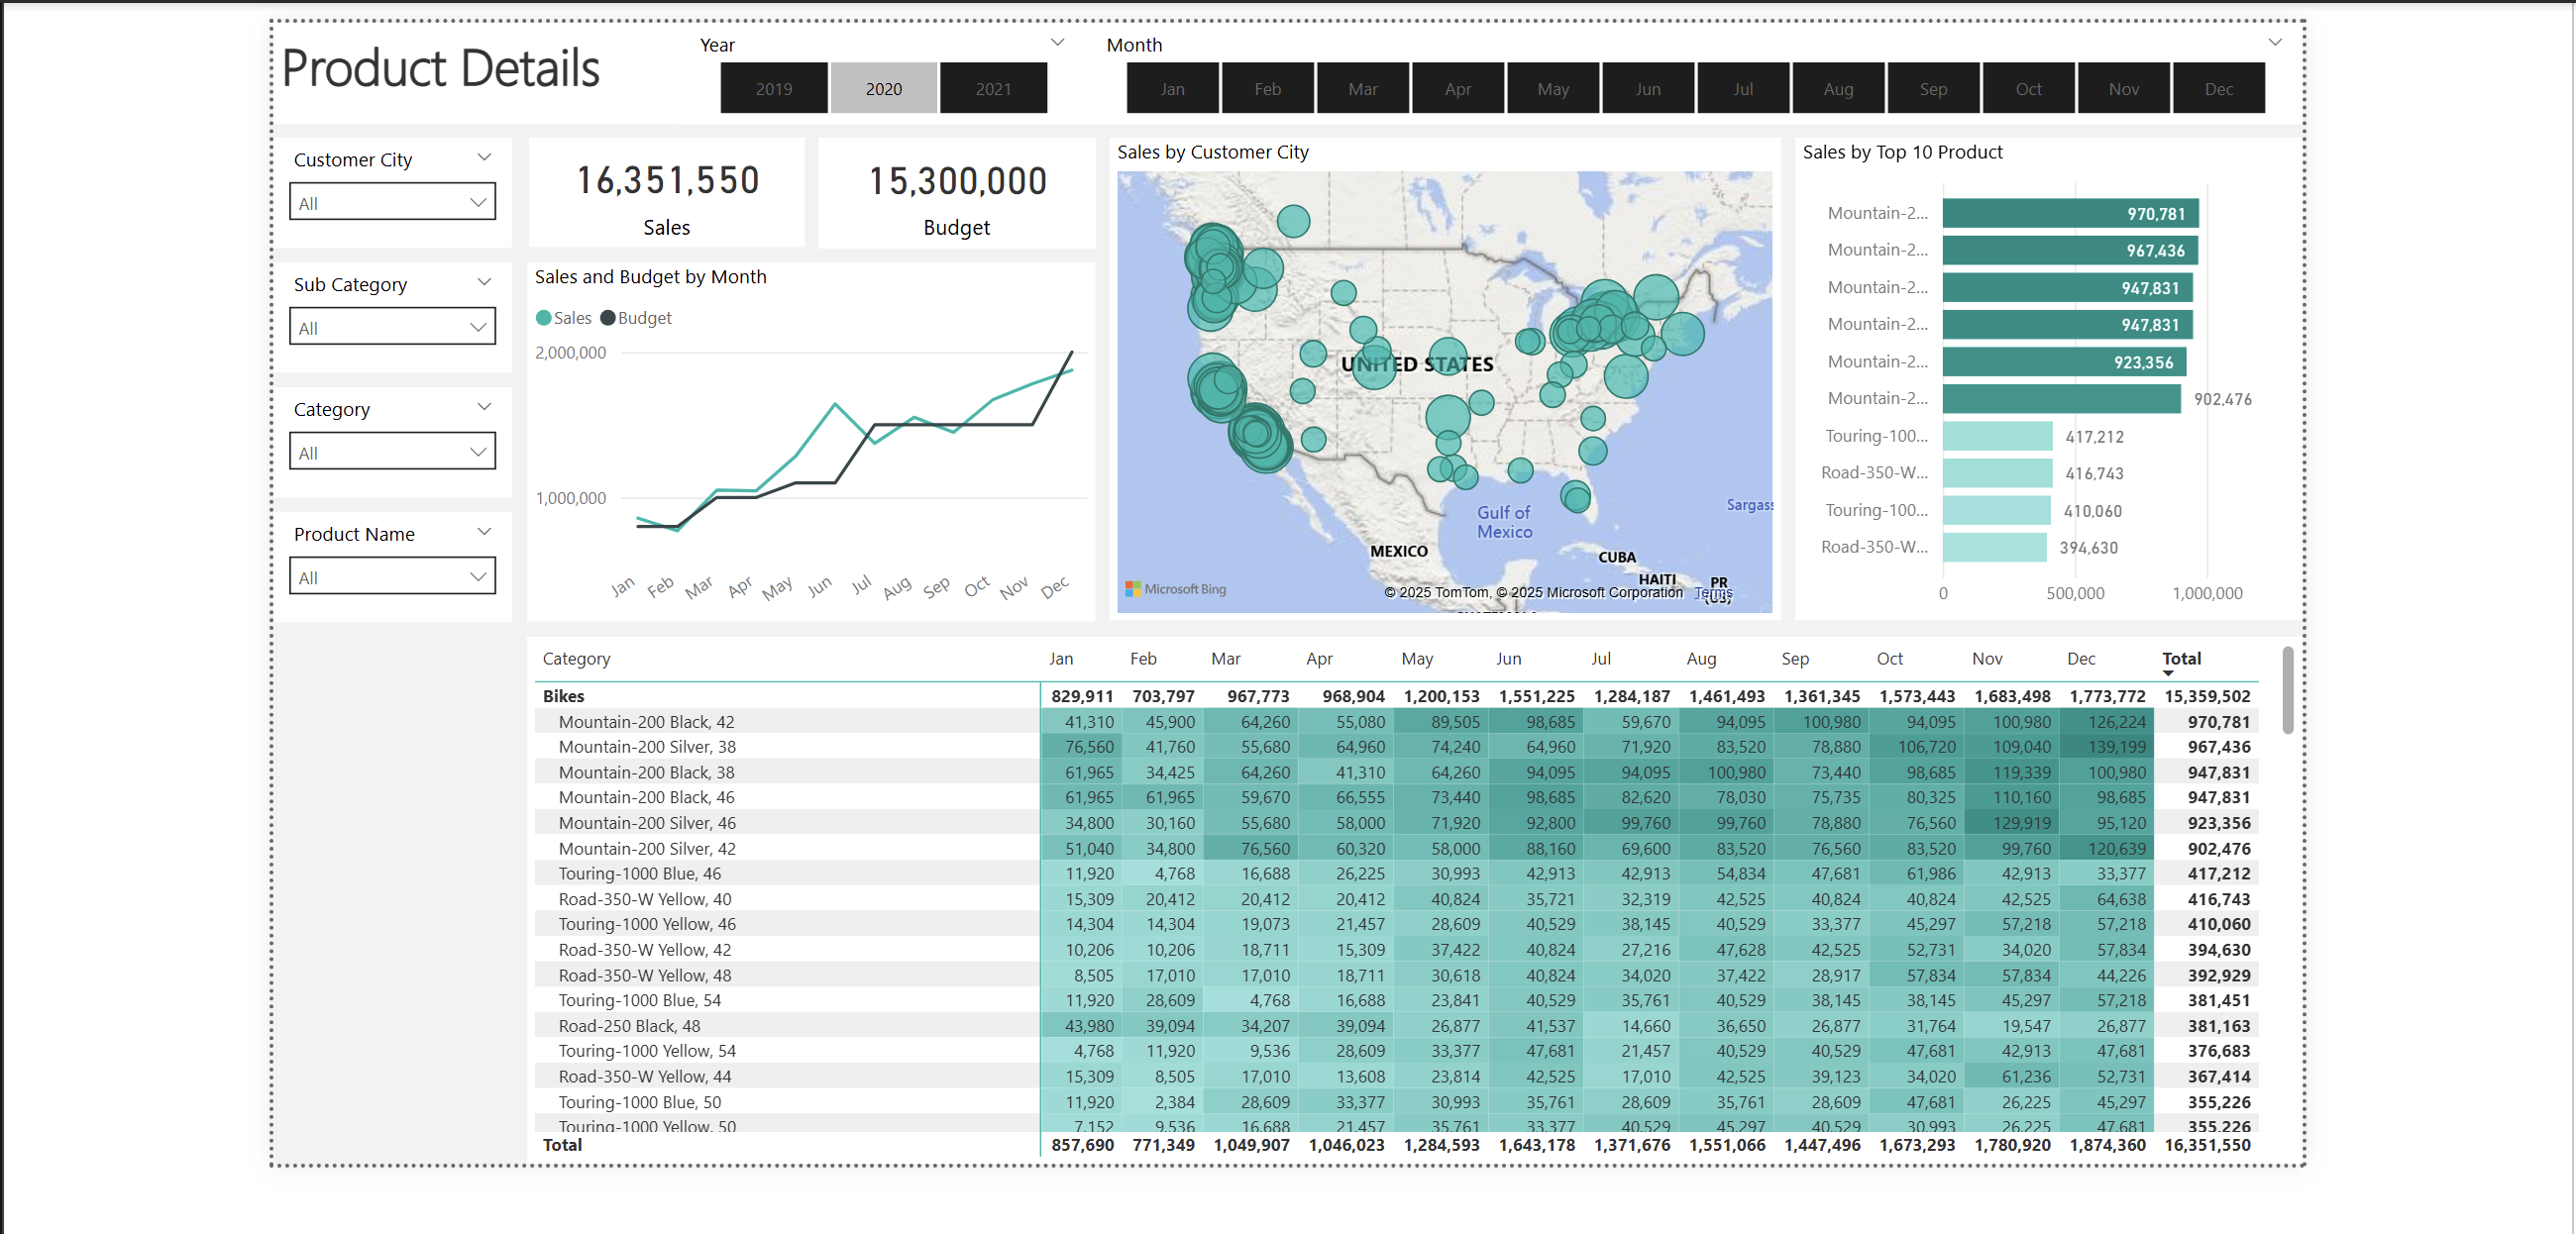

The dashboard page shown, as its layout file describes it:
{"tool":"powerbi","page":{"name":"Product Details","canvas":[1280,720],"ordinal":2},"visuals":[{"type":"textbox","box":[0,0,1280,64],"z":0},{"type":"slicer","fields":{"Values":["DIM_Calendar.Year"]},"box":[256,0,256,64],"z":1000},{"type":"slicer","fields":{"Values":["DIM_Calendar.MonthShort"]},"box":[512,0,768,64],"z":2000},{"type":"slicer","fields":{"Values":["DIM_Customers.Customer City"]},"box":[0,73,150.5,69.3],"z":3000},{"type":"slicer","fields":{"Values":["DIM_Products.Product Category"]},"box":[0,229.9,150.5,69.3],"z":4000},{"type":"slicer","fields":{"Values":["DIM_Products.Product Name"]},"box":[0,308.4,150.5,69.3],"z":5000},{"type":"slicer","fields":{"Values":["DIM_Products.Sub Category"]},"box":[0,151.4,150.5,69.3],"z":6000},{"type":"lineChart","fields":{"Category":["DIM_Calendar.MonthShort"],"Y":["Analysis Metrics.Sales","Analysis Metrics.Budget"]},"box":[159.8,151.8,358.7,226.4],"z":7000},{"type":"card","fields":{"Values":["Analysis Metrics.Sales"]},"box":[160.7,72.8,174,69.2],"z":8000},{"type":"map","fields":{"Category":["DIM_Customers.Customer City"],"Size":["Analysis Metrics.Sales"]},"box":[527.3,72.8,423.5,304.5],"z":9000},{"type":"card","fields":{"Values":["Analysis Metrics.Budget"]},"box":[343.6,72.8,174.9,70.1],"z":10000},{"type":"pivotTable","fields":{"Rows":["DIM_Products.Product Category","DIM_Products.Product Name"],"Columns":["DIM_Calendar.MonthShort"],"Values":["Analysis Metrics.Sales"]},"box":[159.8,387.1,1120.4,332.9],"z":11000},{"type":"clusteredBarChart","title":"Sales by Top 10 Product","fields":{"Category":["DIM_Products.Product Name"],"Y":["Analysis Metrics.Sales"]},"box":[959.7,72.8,320.5,304.5],"z":12000}]}

Visuals, with their boxes on the page's 1280x720 design canvas (x1, y1, x2, y2). These are canvas units, not pixel positions in the 2576x1234 screenshot, which may show the page scaled, cropped or inside an application window:
textbox: 0, 0, 1280, 64
slicer - DIM_Calendar.Year: 256, 0, 512, 64
slicer - DIM_Calendar.MonthShort: 512, 0, 1280, 64
slicer - DIM_Customers.Customer City: 0, 73, 150, 142
slicer - DIM_Products.Product Category: 0, 230, 150, 299
slicer - DIM_Products.Product Name: 0, 308, 150, 378
slicer - DIM_Products.Sub Category: 0, 151, 150, 221
lineChart - DIM_Calendar.MonthShort x Analysis Metrics.Sales: 160, 152, 518, 378
card - Analysis Metrics.Sales: 161, 73, 335, 142
map - DIM_Customers.Customer City x Analysis Metrics.Sales: 527, 73, 951, 377
card - Analysis Metrics.Budget: 344, 73, 518, 143
pivotTable - DIM_Products.Product Category x DIM_Products.Product Name: 160, 387, 1280, 720
"Sales by Top 10 Product" clusteredBarChart: 960, 73, 1280, 377
